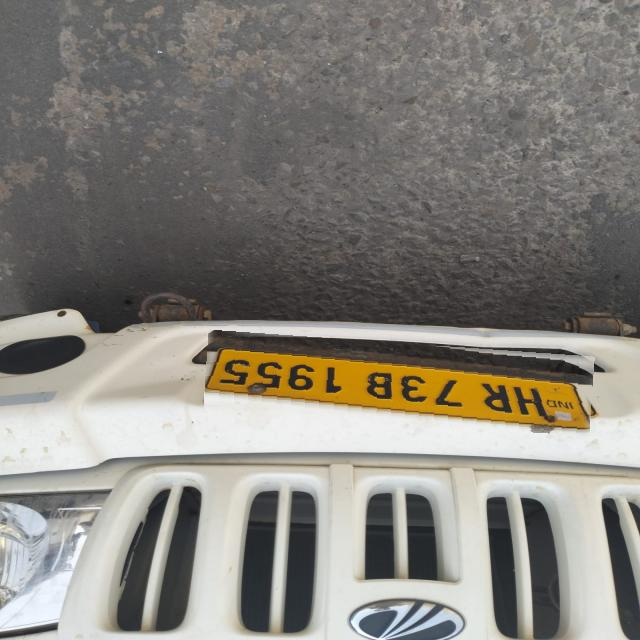License-plate: (205, 336, 594, 430)
